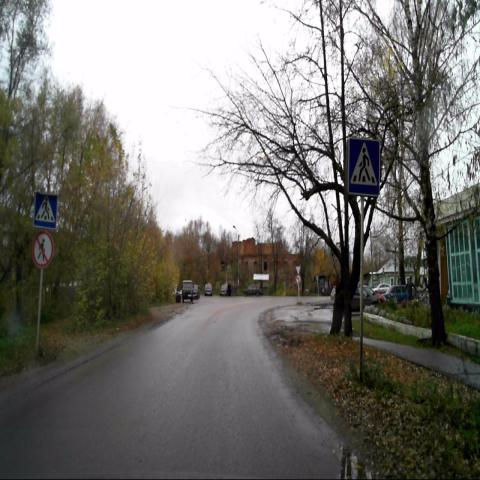3_10: (33, 230, 54, 268)
